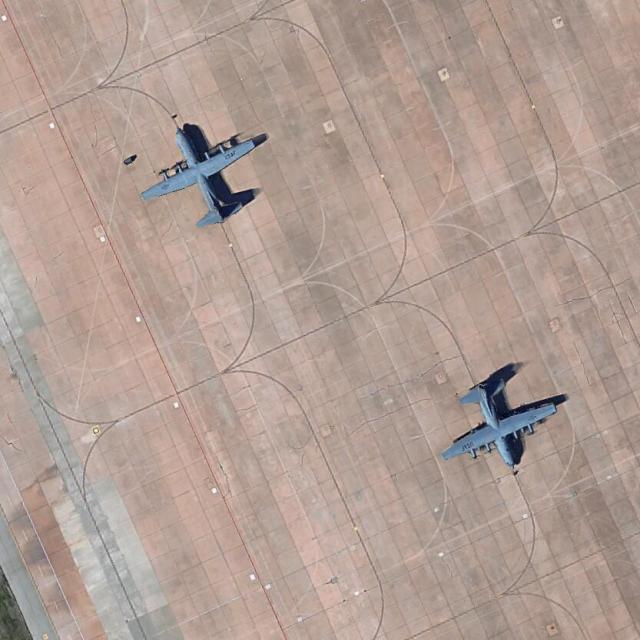fighter jet: (146, 112, 251, 240), (452, 368, 558, 483)
